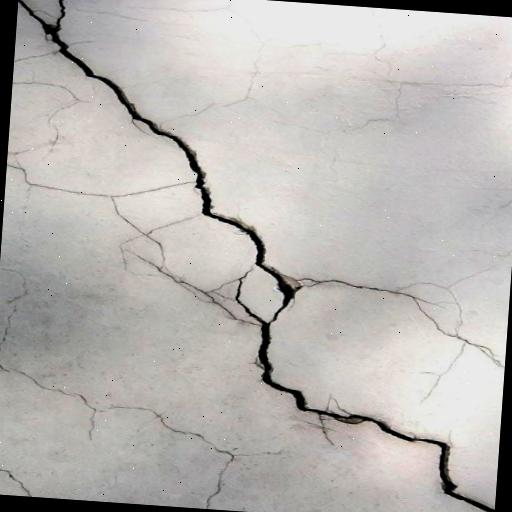spalling: (18, 0, 504, 512), (0, 359, 281, 505), (8, 158, 235, 325), (0, 466, 33, 494)
